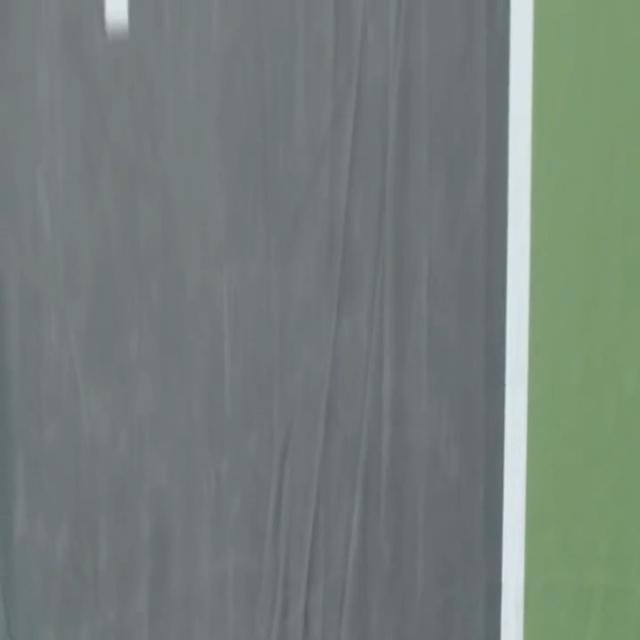center: (104, 0, 128, 37)
right: (500, 0, 532, 639)
